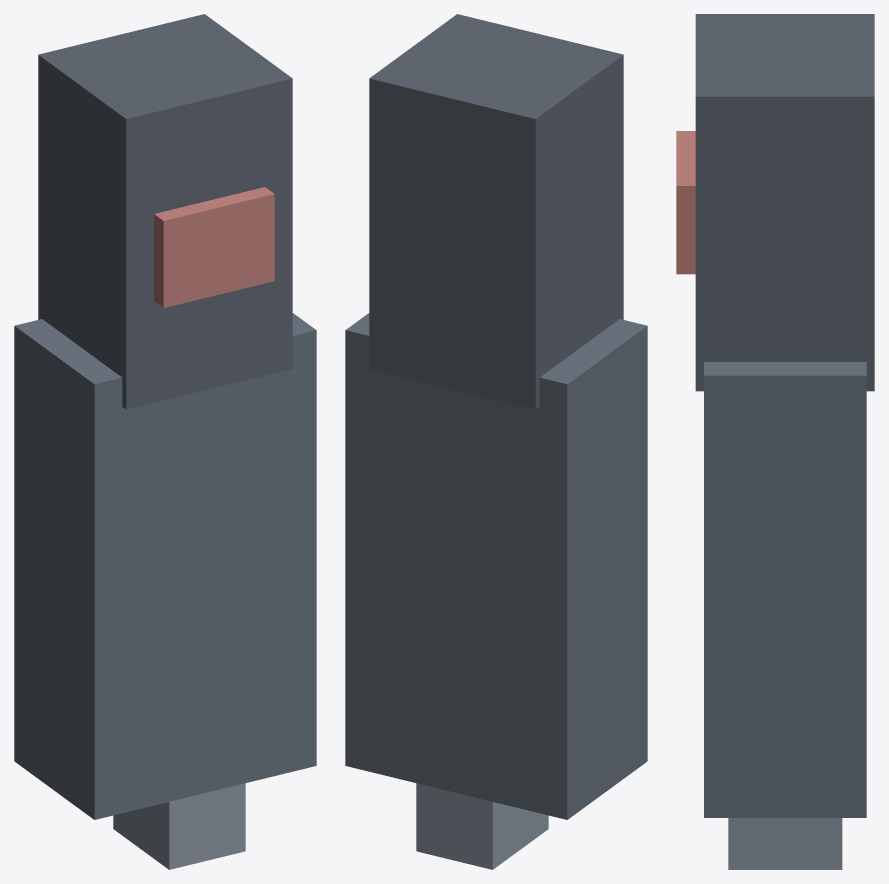
Rendered from barcode_scanner.glb.
The picture shows the model from 3 angles, left to right: view 1: azimuth 30°, elevation 25°; view 2: azimuth 150°, elevation 25°; view 3: azimuth 270°, elevation 25°; orthographic projection.
Visible parts, largest first — view 1: barcode_scanner_000_Scanner_body, barcode_scanner_001_Scanner_head, barcode_scanner_002_Scanner_lens, barcode_scanner_003_Scanner_handle; view 2: barcode_scanner_000_Scanner_body, barcode_scanner_001_Scanner_head, barcode_scanner_003_Scanner_handle; view 3: barcode_scanner_000_Scanner_body, barcode_scanner_001_Scanner_head, barcode_scanner_003_Scanner_handle, barcode_scanner_002_Scanner_lens.
Part boxes in pixels (<box>): barcode_scanner_000_Scanner_body: <box>14,313,316,819</box>; barcode_scanner_001_Scanner_head: <box>38,14,292,409</box>; barcode_scanner_002_Scanner_lens: <box>154,187,274,307</box>; barcode_scanner_003_Scanner_handle: <box>113,783,245,869</box>; barcode_scanner_000_Scanner_body: <box>345,313,647,819</box>; barcode_scanner_001_Scanner_head: <box>369,14,623,409</box>; barcode_scanner_003_Scanner_handle: <box>416,783,548,869</box>; barcode_scanner_000_Scanner_body: <box>704,362,866,817</box>; barcode_scanner_001_Scanner_head: <box>695,14,874,391</box>; barcode_scanner_003_Scanner_handle: <box>728,818,842,869</box>; barcode_scanner_002_Scanner_lens: <box>676,131,695,274</box>.
Size of the model in its own units: 0.16 by 0.535 by 0.122.
